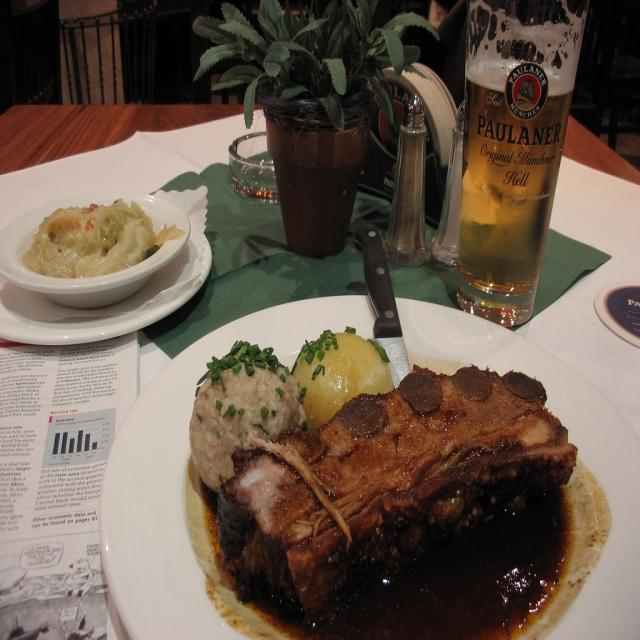paulaner: (506, 64, 550, 120)
